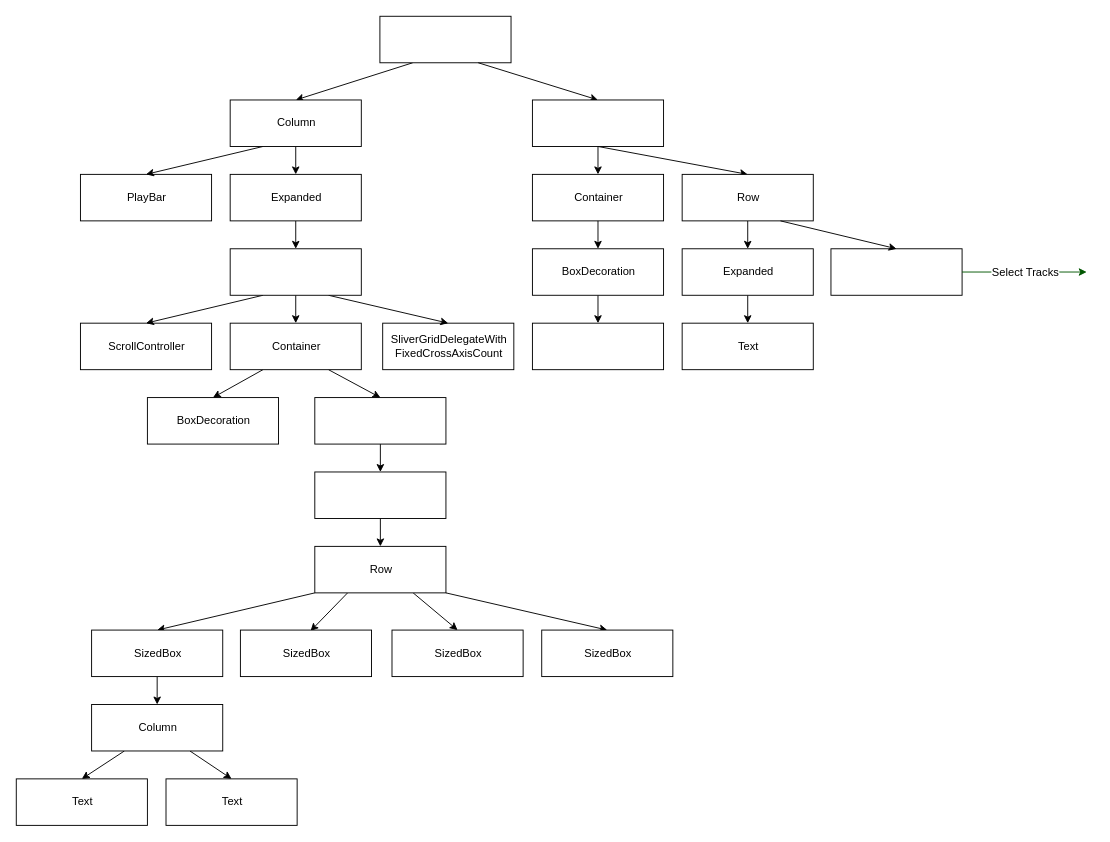
The diagram is 1110 pixels wide and 842 high, and some of its shapes have lost their labels. The centre of each missing label's shape, as x and y in pixels:
"AppBar" goes at point 597,122.
"GestureDetector" goes at point 380,420.
"GridView" goes at point 295,271.
"IconButton" goes at point 896,271.
"LinearGradient" goes at point 597,346.
"ListTile" goes at point 380,494.
"Scaffold" goes at point 445,39.
